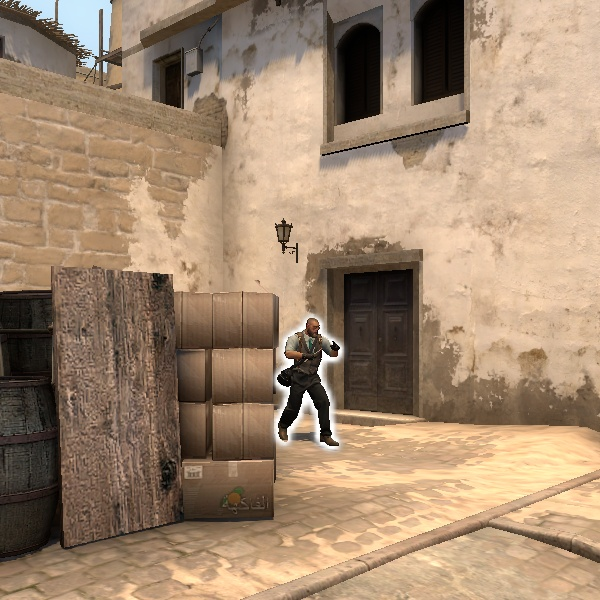t_body: (268, 313, 347, 449)
t_head: (302, 314, 325, 339)
